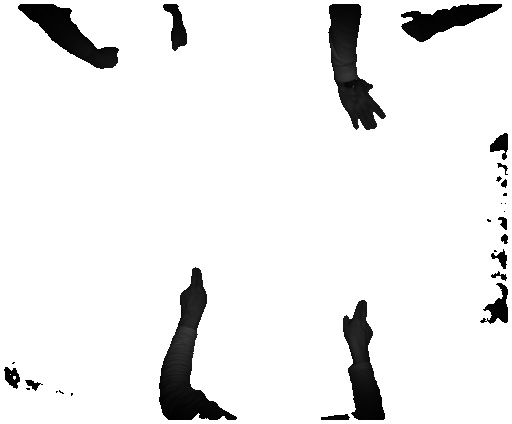fist: (168, 29, 191, 55), (97, 45, 119, 71)
hand: (339, 83, 391, 135), (336, 296, 375, 352), (176, 264, 207, 321), (400, 10, 438, 47)
